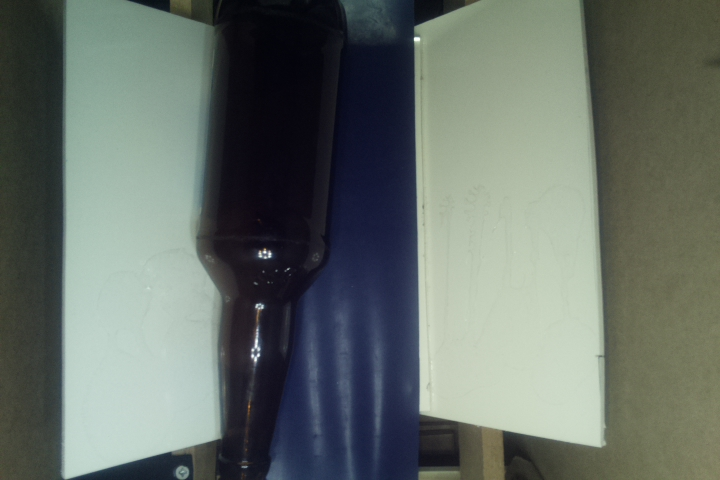makju: (198, 1, 345, 479)
